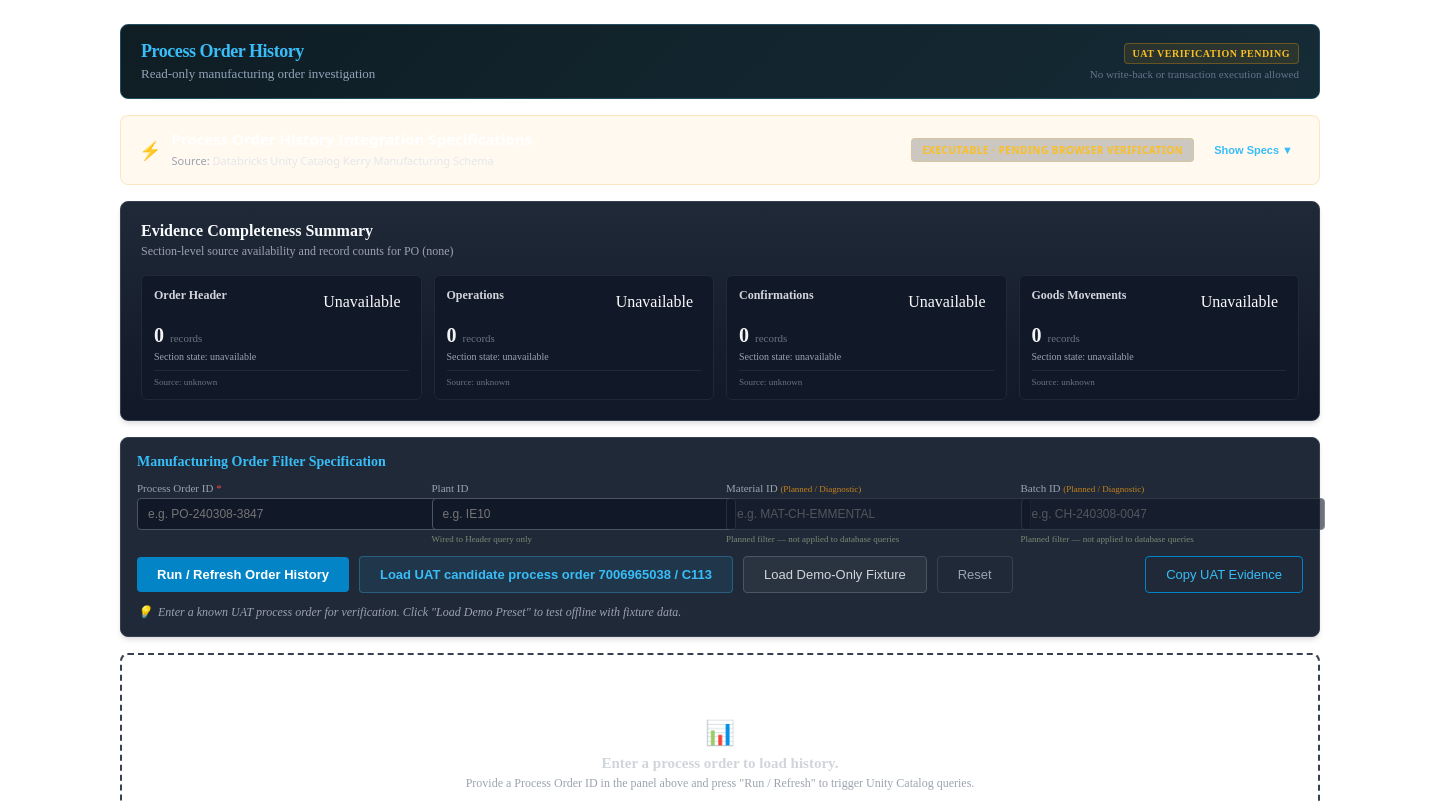
Test: OrderHistoryView › validates that Process Order ID is required
The image size is (1440, 801).
What coordinates should you click on to do the following:
click the button "Run / Refresh Order History"
I would click on:
 (243, 574)
Its box is [137,557,349,592].
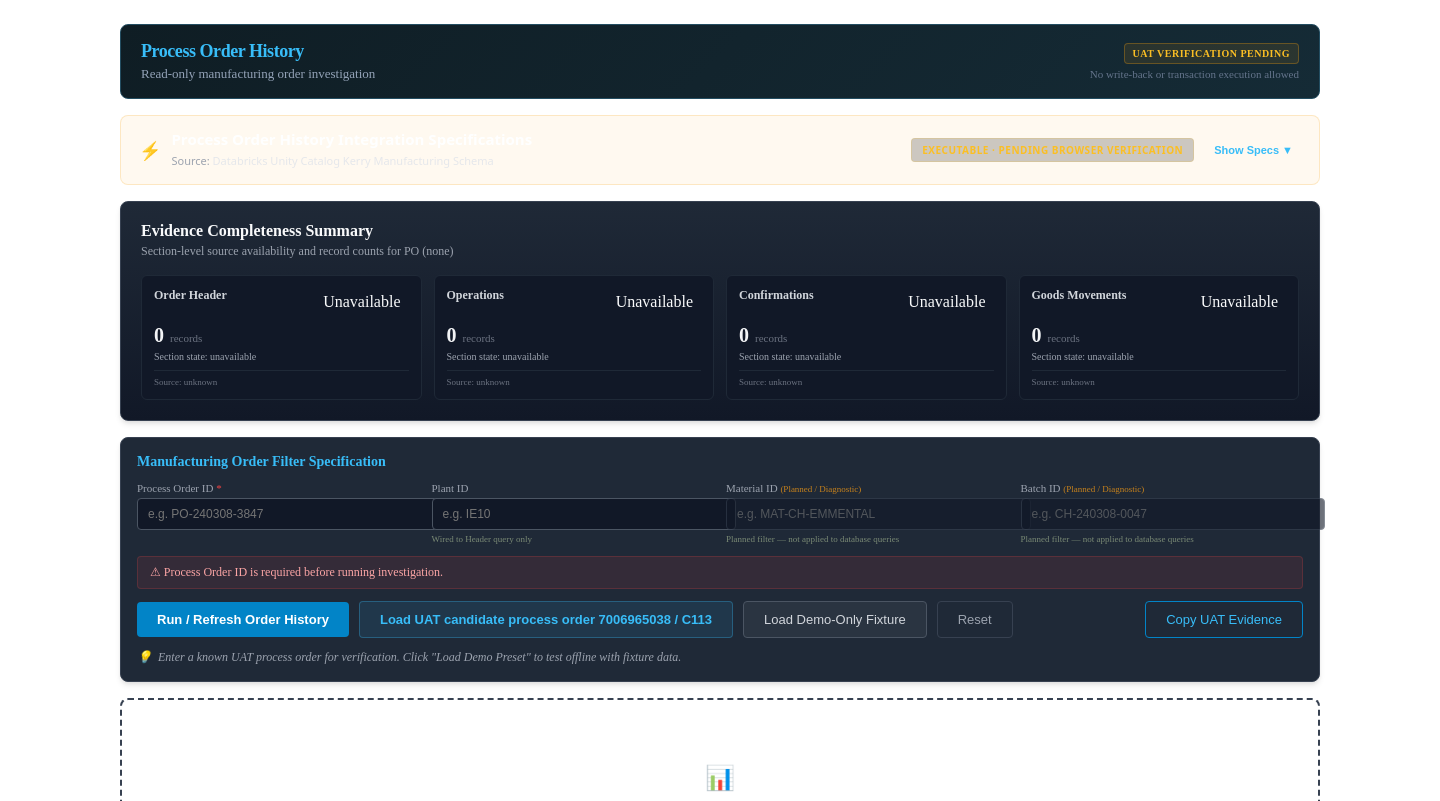
Now the text "⚠ Process Order ID is required before running investigation." is shown, box [137,556,1303,589]
